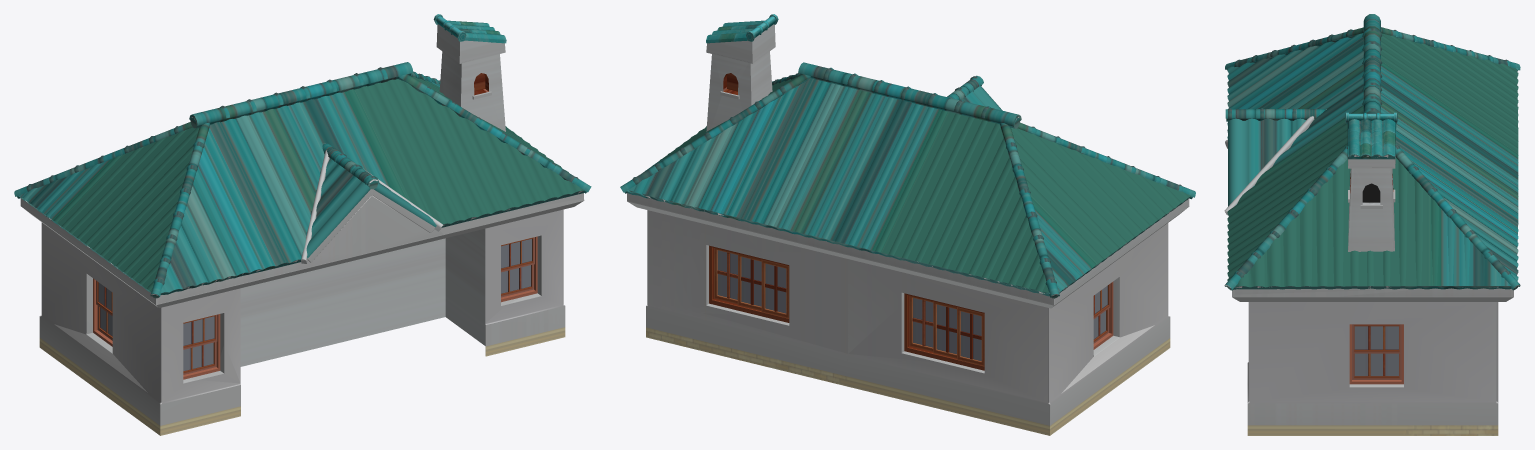
File: objects_un_t07shophouse01.gltf
3 renders of one model, left to right at view 1: azimuth 30°, elevation 25°; view 2: azimuth 150°, elevation 25°; view 3: azimuth 270°, elevation 25°, orthographic. The views are drawn at different scales.
Parts seen in each view (by area): view 1: um_objects_un_t07shophouse01_model_lod0Shape:objects_un_t07s (×5), um_objects_un_t07shophouse01_model_lod2Shape:objects_un_t07s (×2), um_objects_un_t07shophouse01_model_lod1Shape:objects_un_t07s (×3), nomerge_objects_un_t07shophouse01_int_shape:objects_un_behin; view 2: um_objects_un_t07shophouse01_model_lod0Shape:objects_un_t07s (×5), um_objects_un_t07shophouse01_model_lod2Shape:objects_un_t07s (×2), um_objects_un_t07shophouse01_model_lod1Shape:objects_un_t07s (×3), nomerge_objects_un_t07shophouse01_int_shape:objects_un_behin; view 3: um_objects_un_t07shophouse01_model_lod0Shape:objects_un_t07s (×4), um_objects_un_t07shophouse01_model_lod2Shape:objects_un_t07s (×2), um_objects_un_t07shophouse01_model_lod1Shape:objects_un_t07s (×2), nomerge_objects_un_t07shophouse01_int_shape:objects_un_behin.
Boxes of the visible parts, <box> form: um_objects_un_t07shophouse01_model_lod0Shape:objects_un_t07s (×5): <box>14,14,591,435</box>; um_objects_un_t07shophouse01_model_lod2Shape:objects_un_t07s (×2): <box>19,15,583,307</box>; um_objects_un_t07shophouse01_model_lod1Shape:objects_un_t07s (×3): <box>17,24,586,435</box>; nomerge_objects_un_t07shophouse01_int_shape:objects_un_behin: <box>99,239,531,370</box>; um_objects_un_t07shophouse01_model_lod0Shape:objects_un_t07s (×5): <box>620,14,1195,435</box>; um_objects_un_t07shophouse01_model_lod2Shape:objects_un_t07s (×2): <box>627,21,1190,308</box>; um_objects_un_t07shophouse01_model_lod1Shape:objects_un_t07s (×3): <box>625,24,1192,435</box>; nomerge_objects_un_t07shophouse01_int_shape:objects_un_behin: <box>718,250,1107,360</box>; um_objects_un_t07shophouse01_model_lod0Shape:objects_un_t07s (×4): <box>1224,14,1520,435</box>; um_objects_un_t07shophouse01_model_lod2Shape:objects_un_t07s (×2): <box>1226,33,1518,301</box>; um_objects_un_t07shophouse01_model_lod1Shape:objects_un_t07s (×2): <box>1232,159,1513,435</box>; nomerge_objects_un_t07shophouse01_int_shape:objects_un_behin: <box>1355,326,1398,375</box>.
Size of what is drawn, in the model's own units: 12.52 by 7.72 by 7.02.
6 materials, 4 textured.
